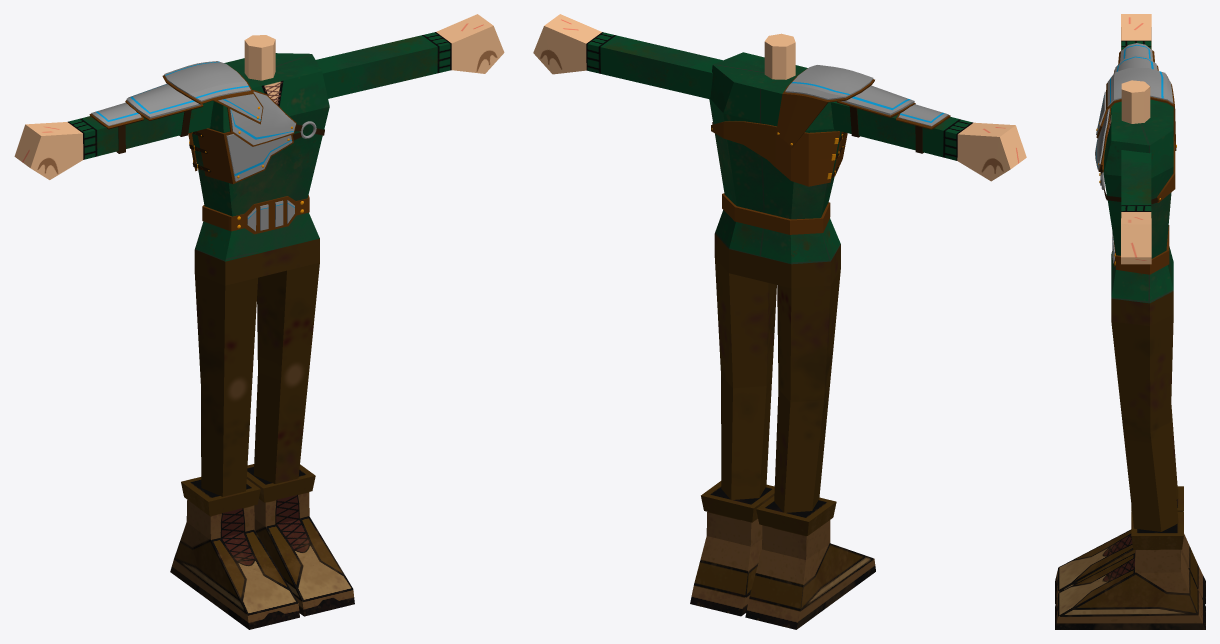
The model's file is warrior model_body.fbx.
3 renders of one model, left to right at view 1: azimuth 30°, elevation 25°; view 2: azimuth 150°, elevation 25°; view 3: azimuth 270°, elevation 25°, orthographic. The views are drawn at different scales.
Parts seen in each view (by area): view 1: warrior; view 2: warrior; view 3: warrior.
Part boxes in pixels (left/top/right/bottom): warrior: left=14, top=14, right=504, bottom=629; warrior: left=533, top=14, right=1026, bottom=629; warrior: left=1055, top=14, right=1205, bottom=629.
Bounding box in the file's own units: 138 × 152 × 39.95.
